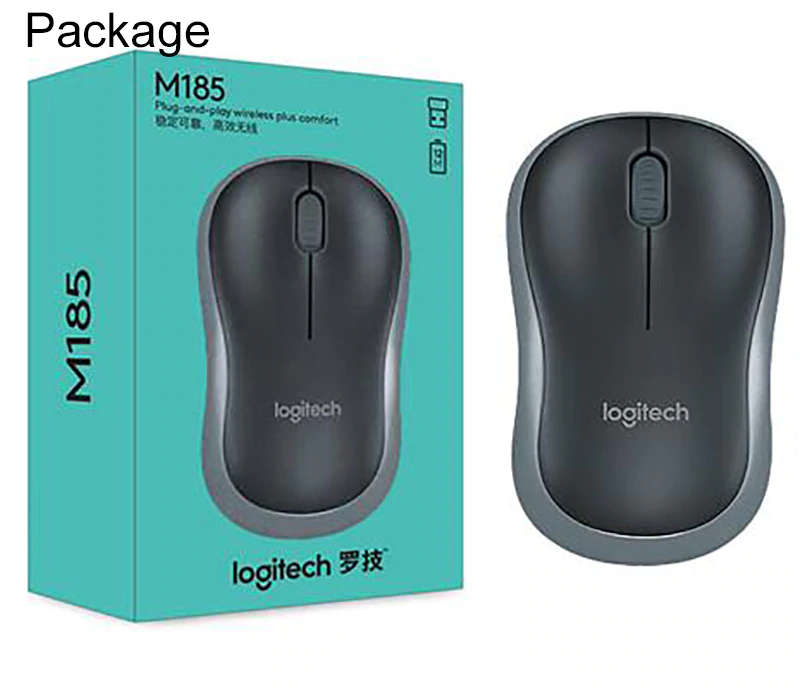logitech-mouse-m185: (501, 114, 796, 573), (197, 150, 426, 539)
